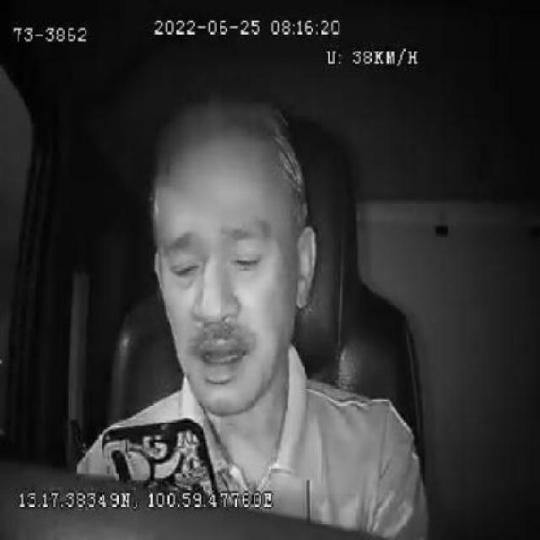phone: (99, 416, 217, 490)
